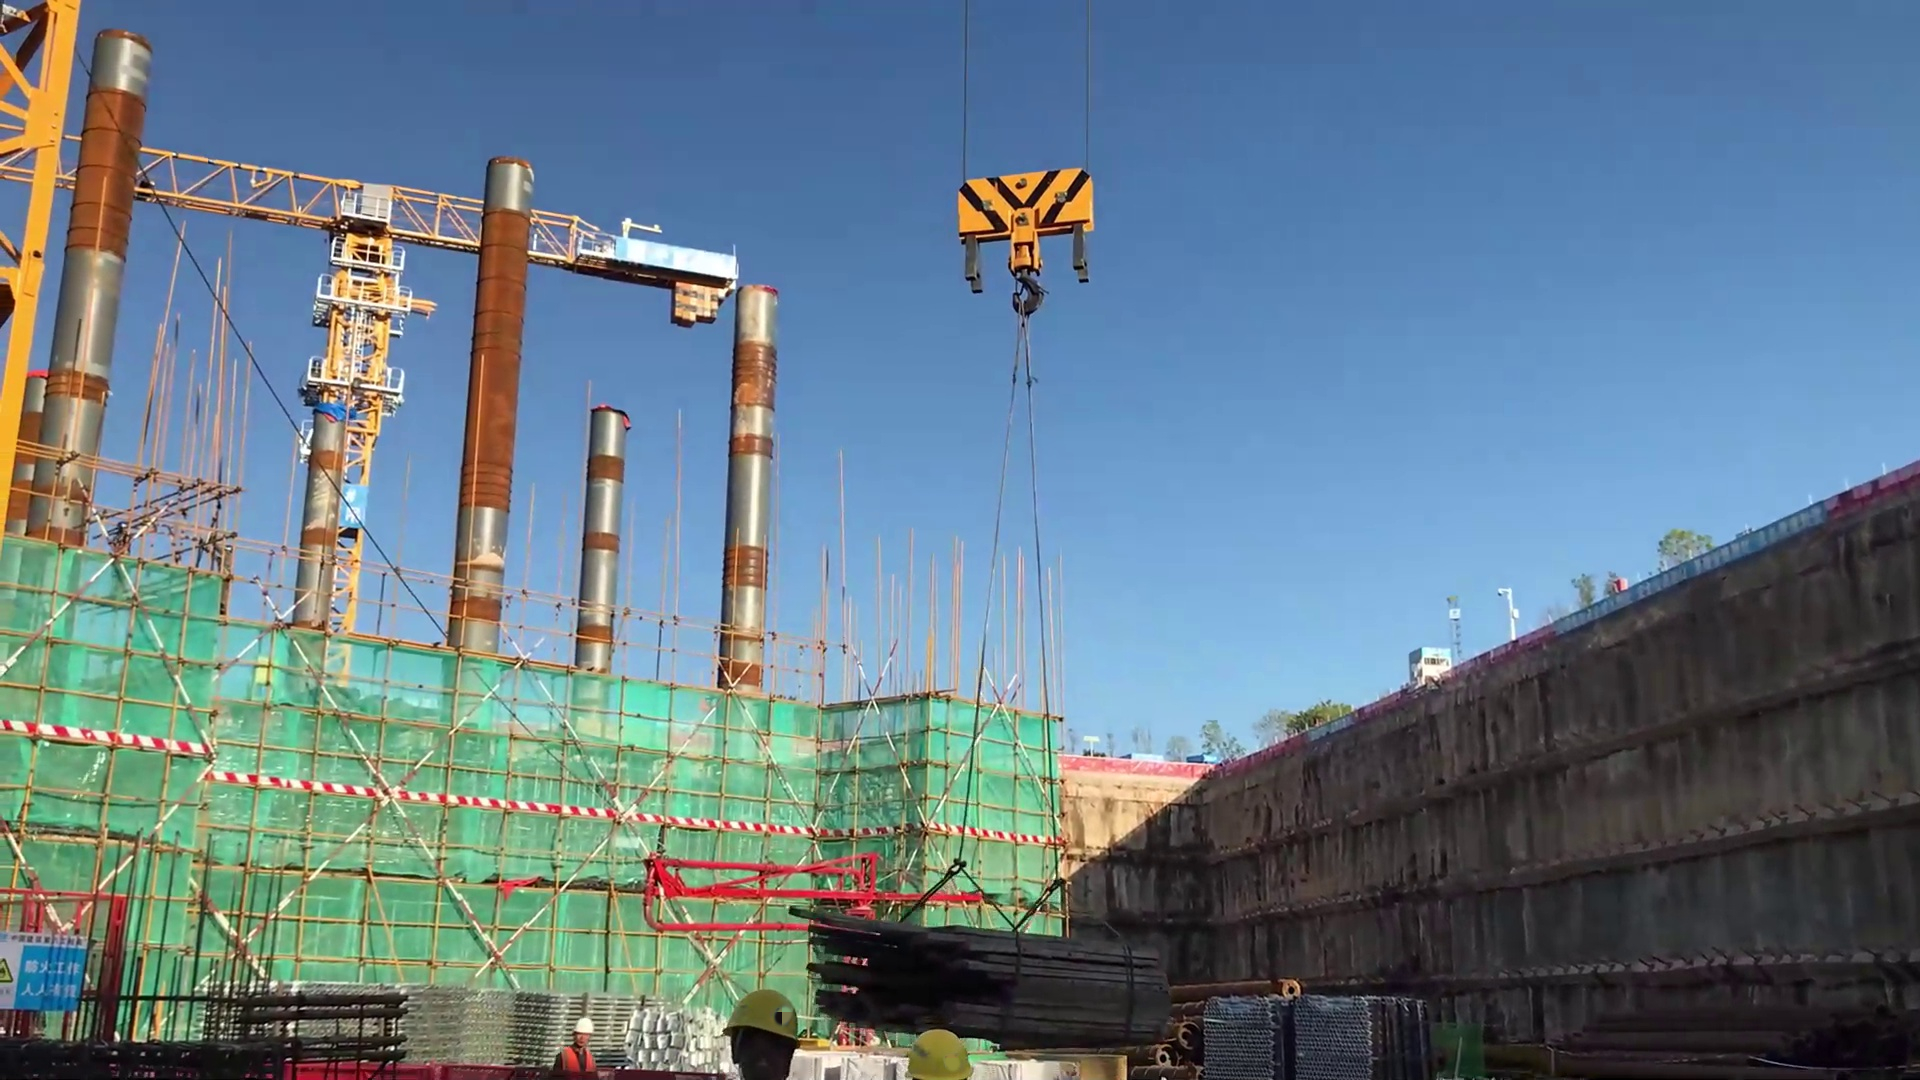helmet: (715, 976, 828, 1043), (894, 1021, 994, 1077), (551, 1004, 609, 1038)
hook: (947, 160, 1105, 320)
slogan: (1528, 488, 1861, 644)
wood: (765, 884, 1205, 1050)
